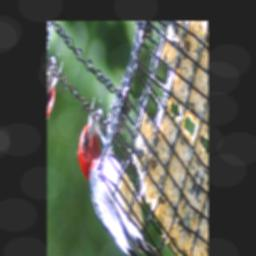Woodpecker: (64, 87, 193, 256)
